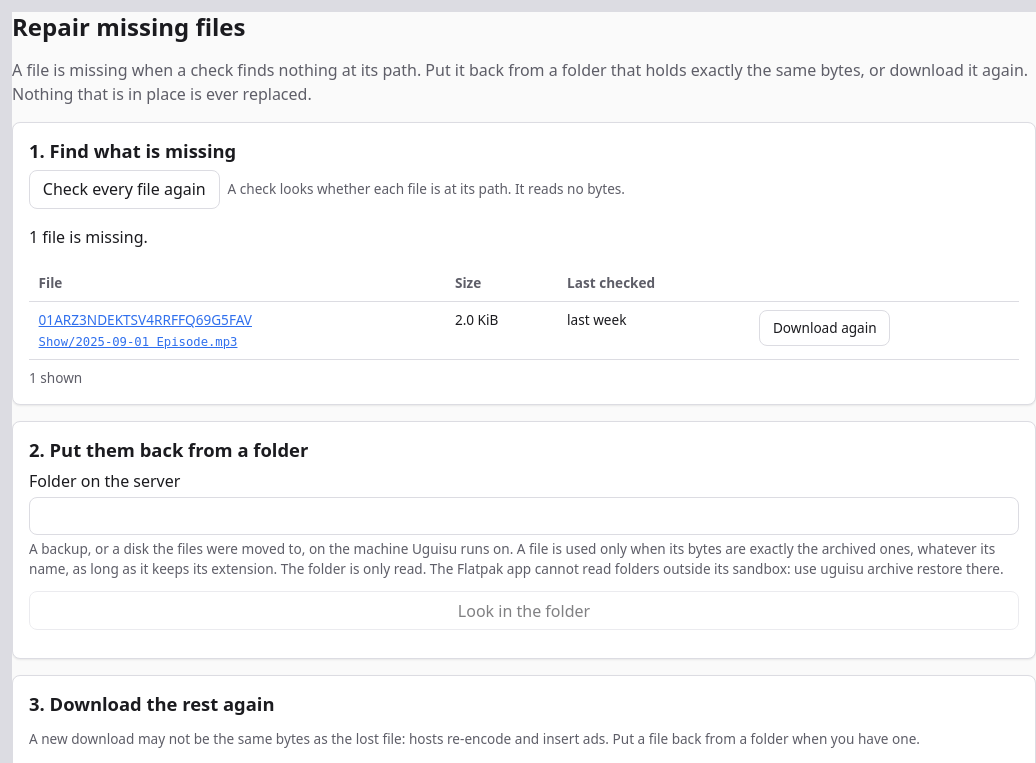
it: archive repair view › restores from a folder, then applies
Expected: the text "1 file is missing." is shown, left=29, top=226, right=148, bottom=248
Type "/mnt/backup" into the field labelled "Folder on the server".
click(524, 516); type("/mnt/backup")  # box left=29, top=497, right=1019, bottom=534
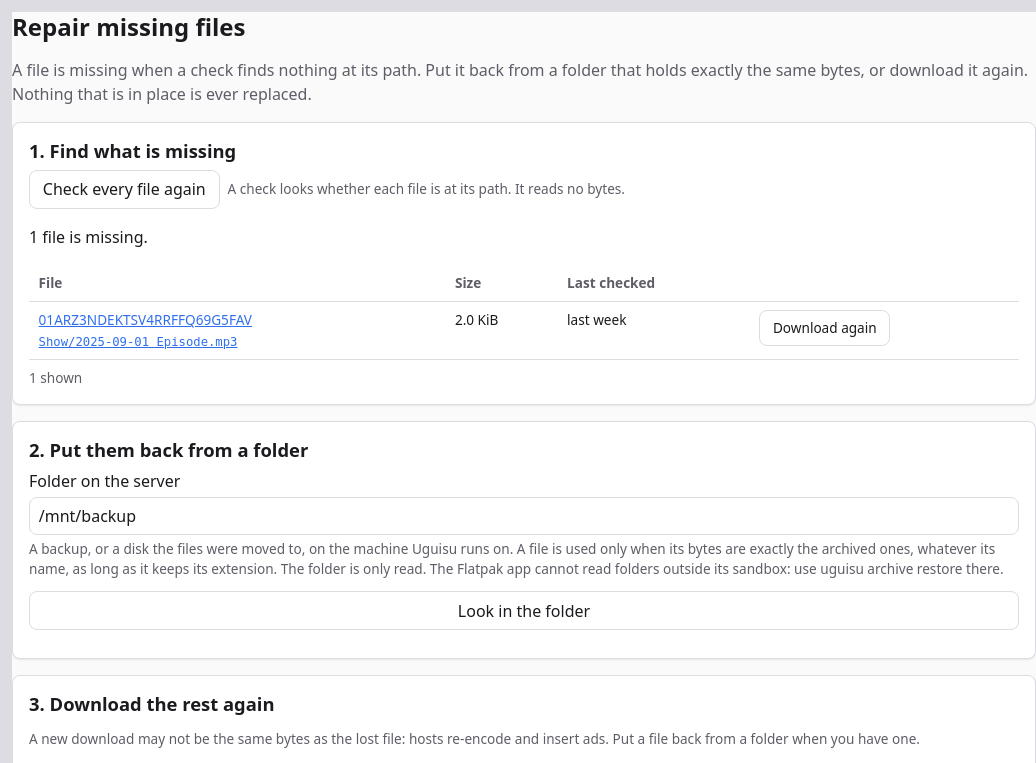
Click the button "Look in the folder".
click(524, 611)  # box left=29, top=591, right=1019, bottom=630
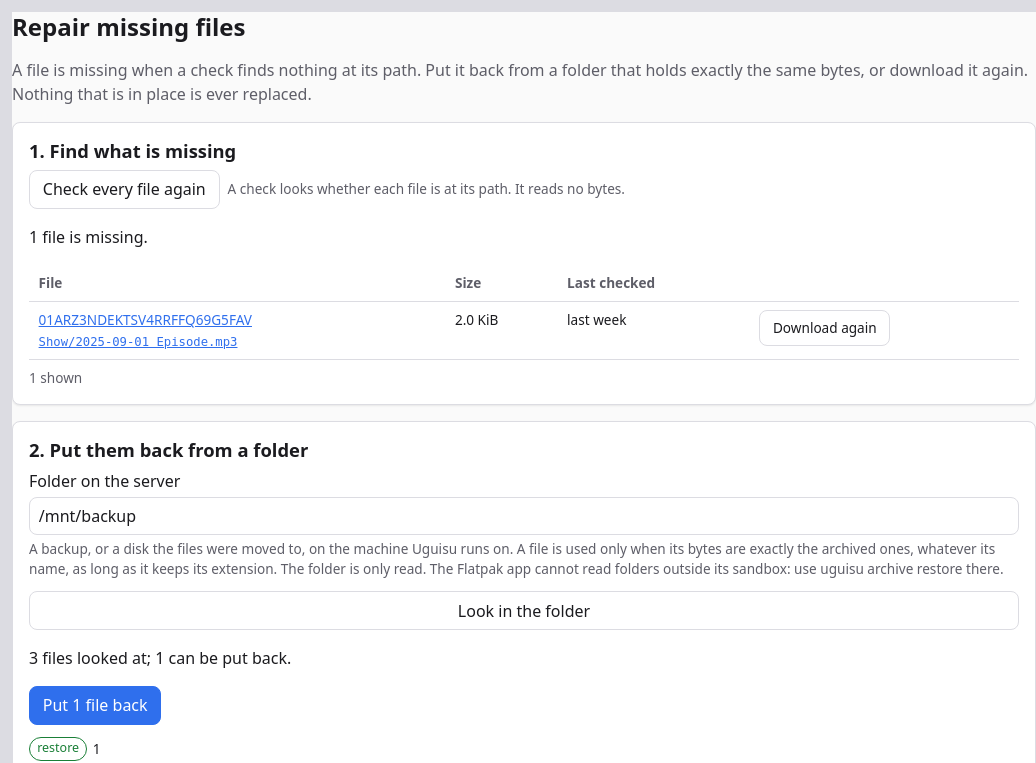
Now the text "3 files looked at; 1 can be put back." is shown, box left=29, top=647, right=291, bottom=669
Click the button "Put 1 file back".
click(95, 706)  # box left=29, top=686, right=161, bottom=725
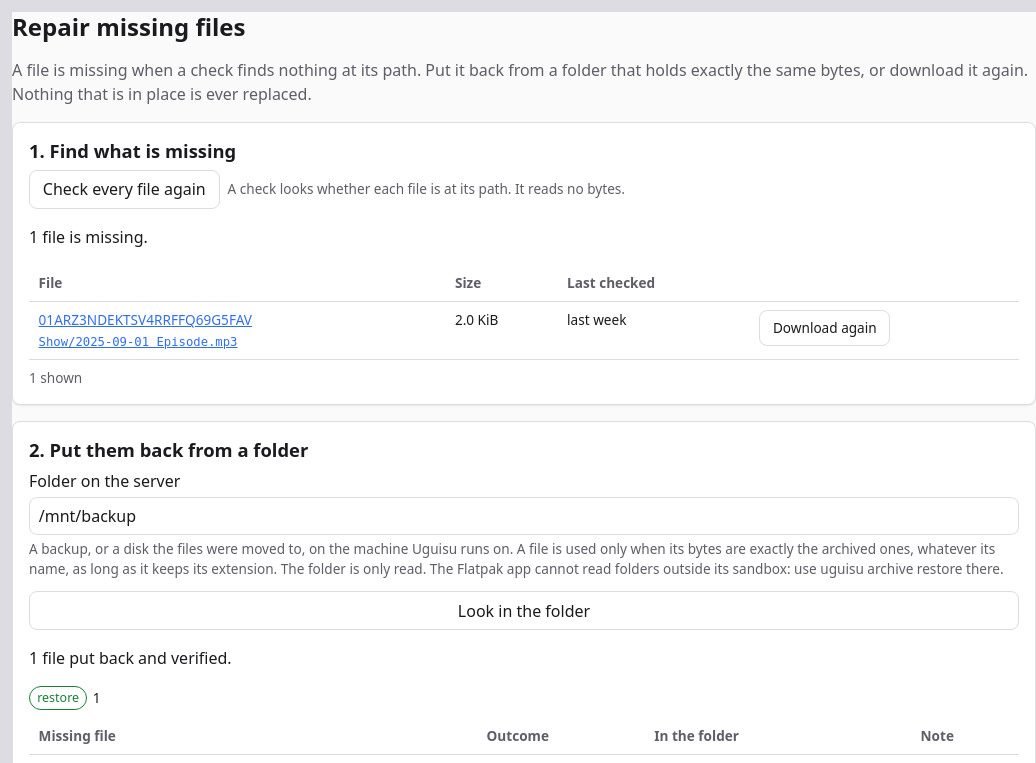
Now the text "1 file put back and verified." is shown, box left=29, top=647, right=232, bottom=669
